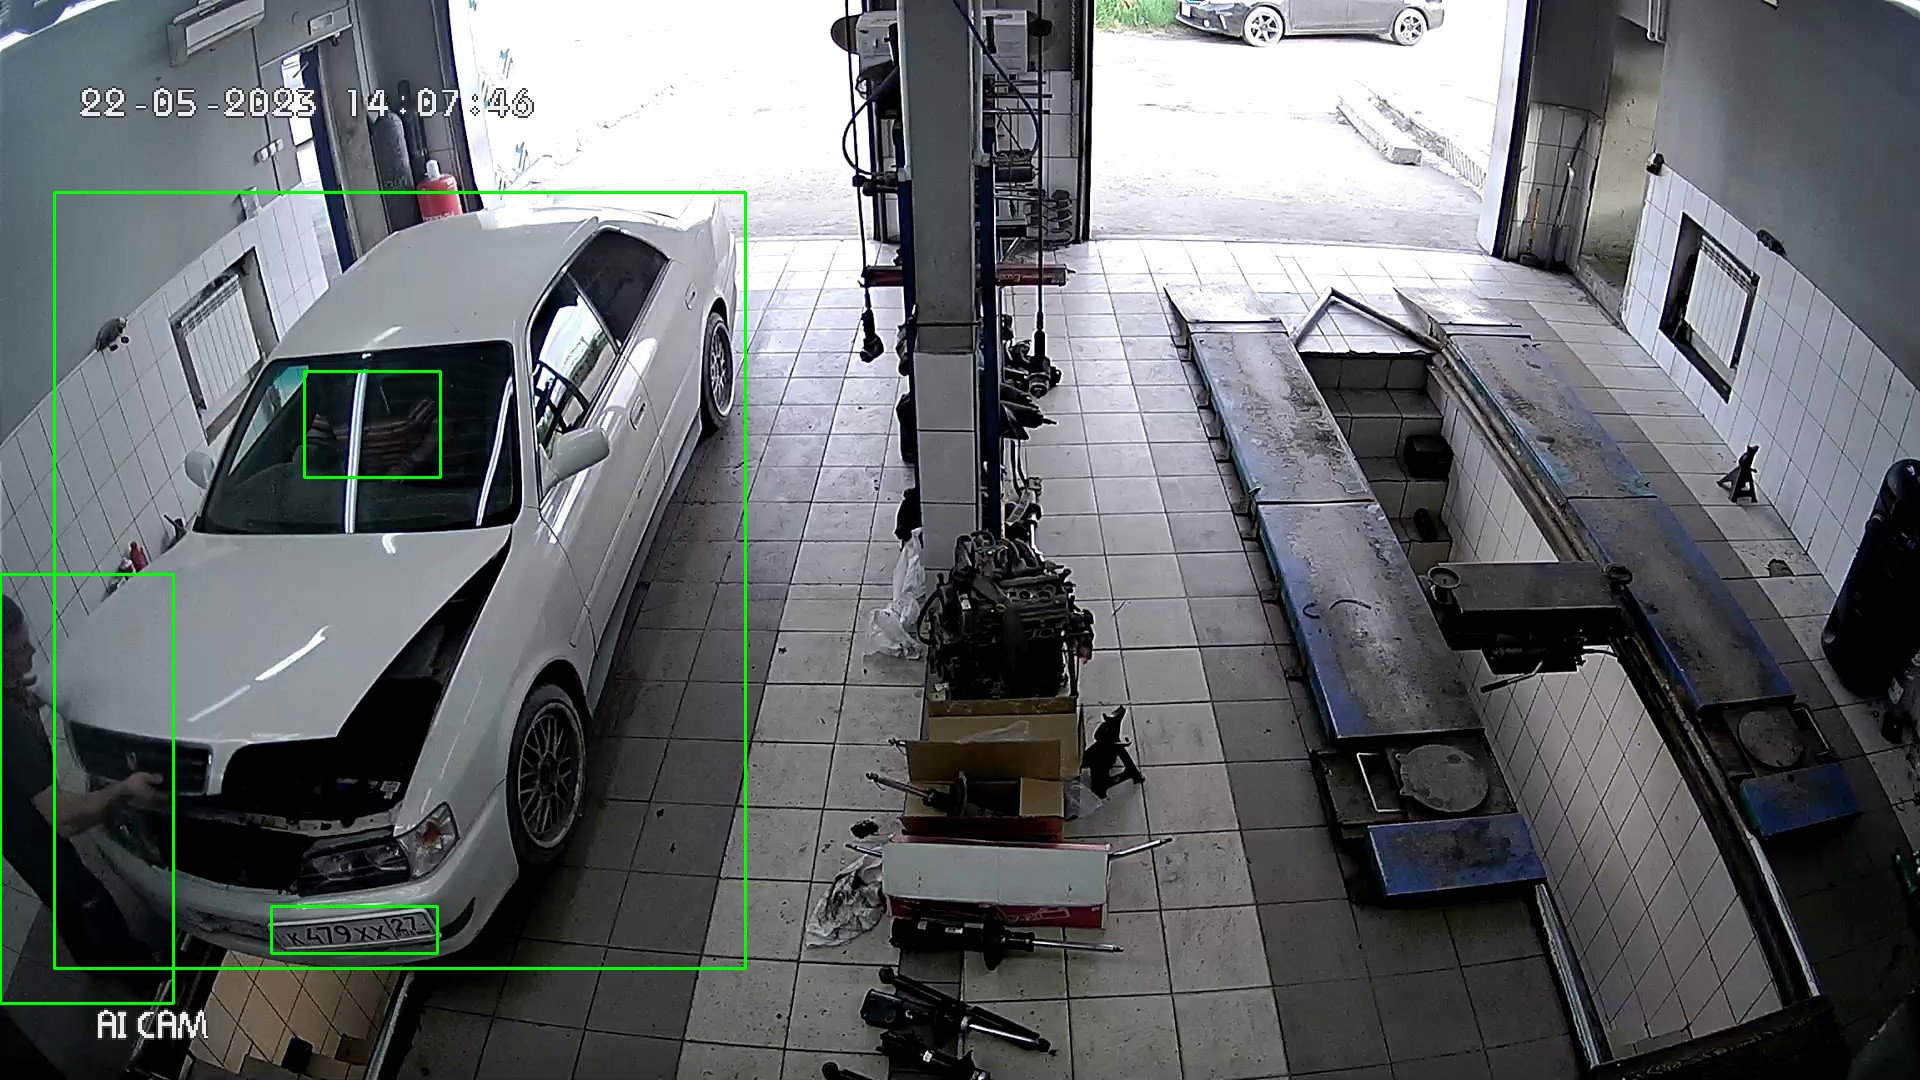car: (54, 192, 745, 968)
person: (271, 906, 437, 953)
plate: (0, 574, 173, 1003), (304, 371, 440, 477)
